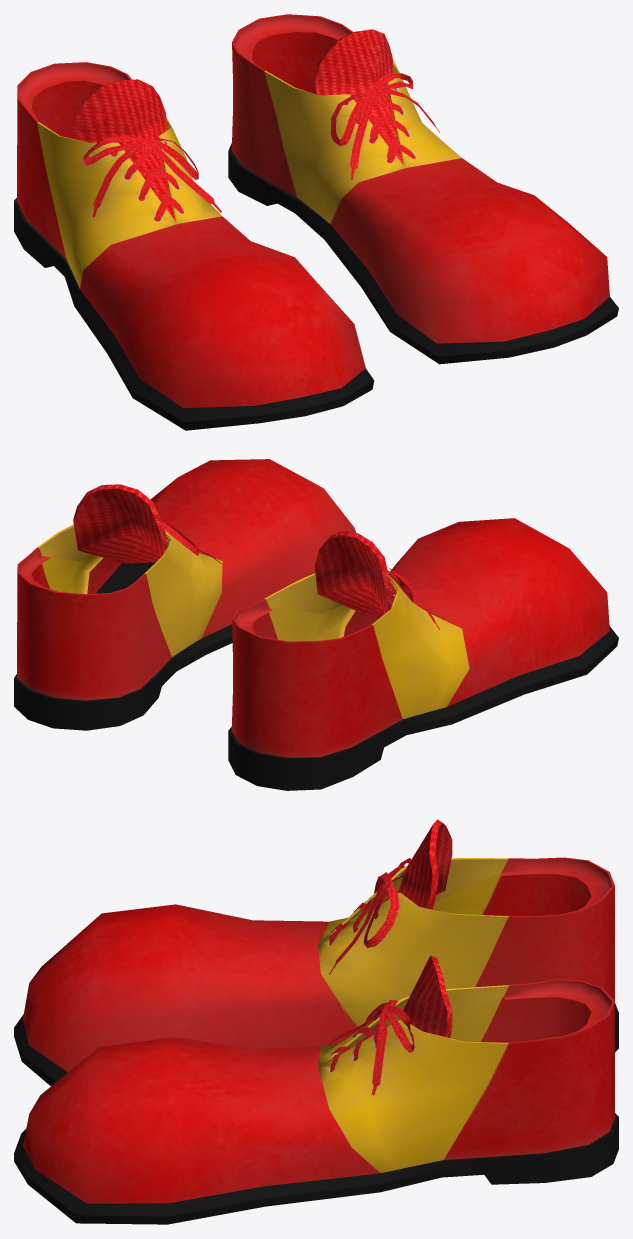
Rendered from Circus.glb.
3 renders of one model, top to bottom at view 1: azimuth 30°, elevation 25°; view 2: azimuth 150°, elevation 25°; view 3: azimuth 270°, elevation 25°, orthographic. The views are drawn at different scales.
Parts seen in each view (by area): view 1: Circus; view 2: Circus; view 3: Circus.
Part boxes in pixels (left/top/right/bottom): Circus: left=14, top=14, right=618, bottom=430; Circus: left=14, top=459, right=618, bottom=790; Circus: left=14, top=819, right=618, bottom=1224.
Bounding box in the file's own units: 1.18 × 0.5155 × 1.23.
1 material, 1 textured.
